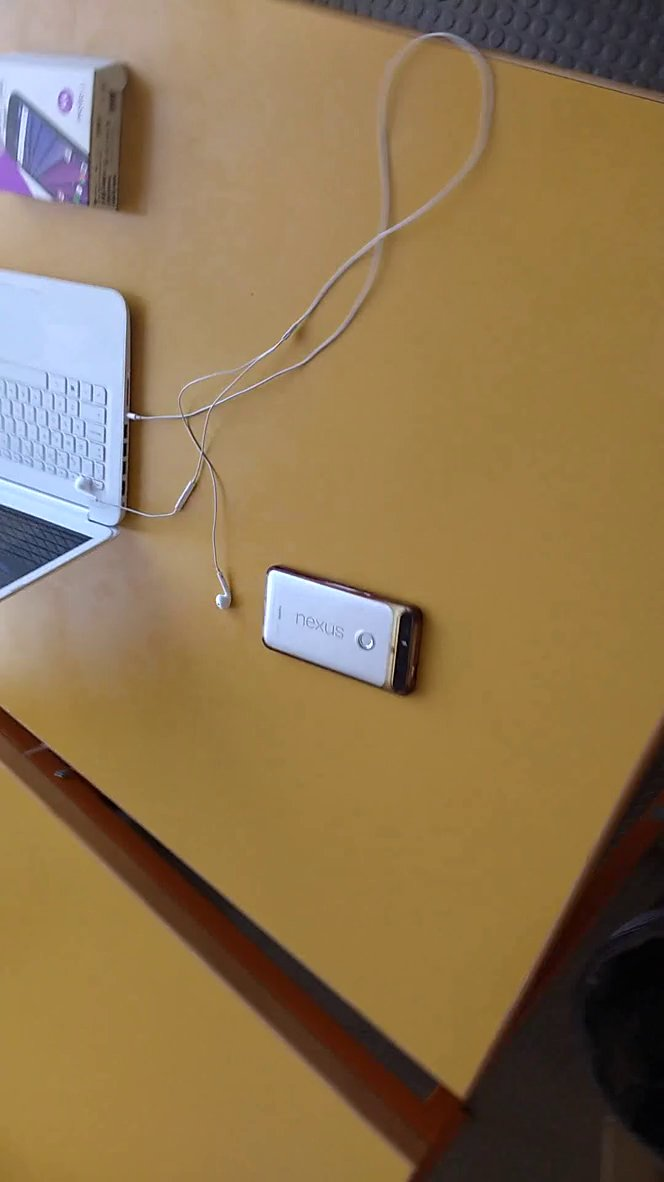phone: (254, 557, 446, 718)
